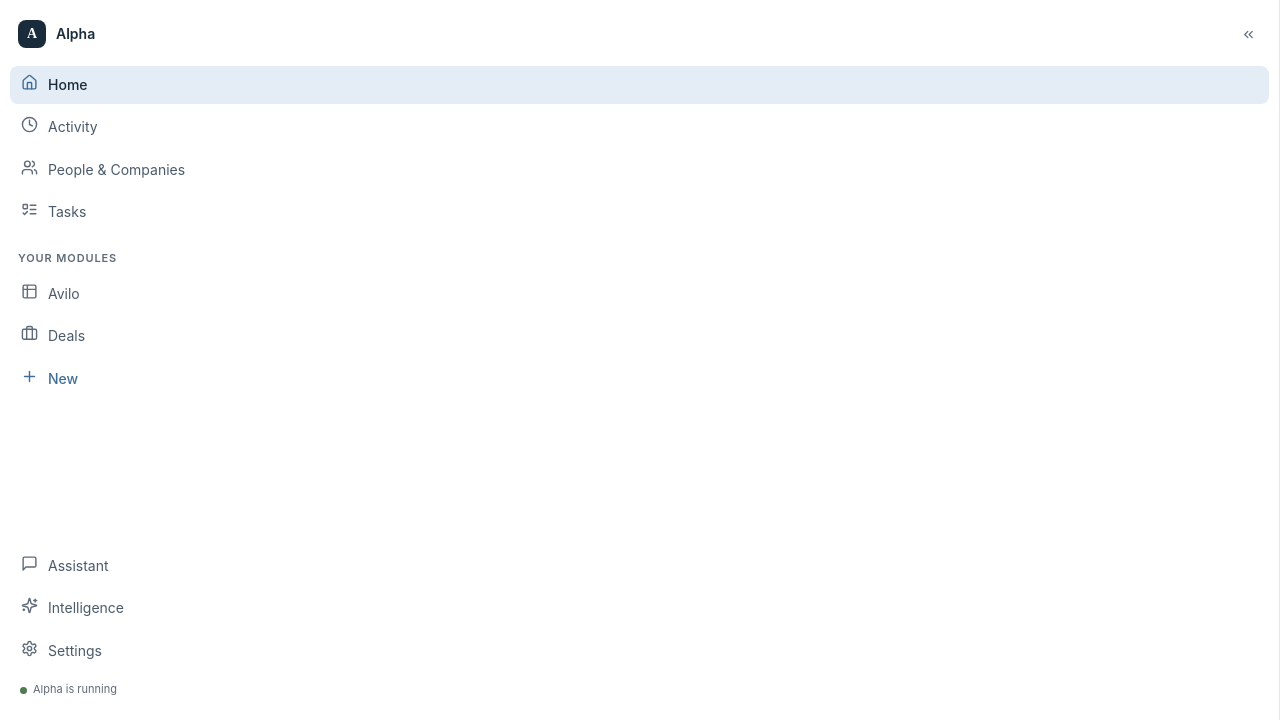
Test: a module renamed in place in the sidebar › saves on Enter, says a refusal in words, and Escape keeps the name
Right-click the button "Deals": x=67, y=336 [10, 317, 1269, 356]
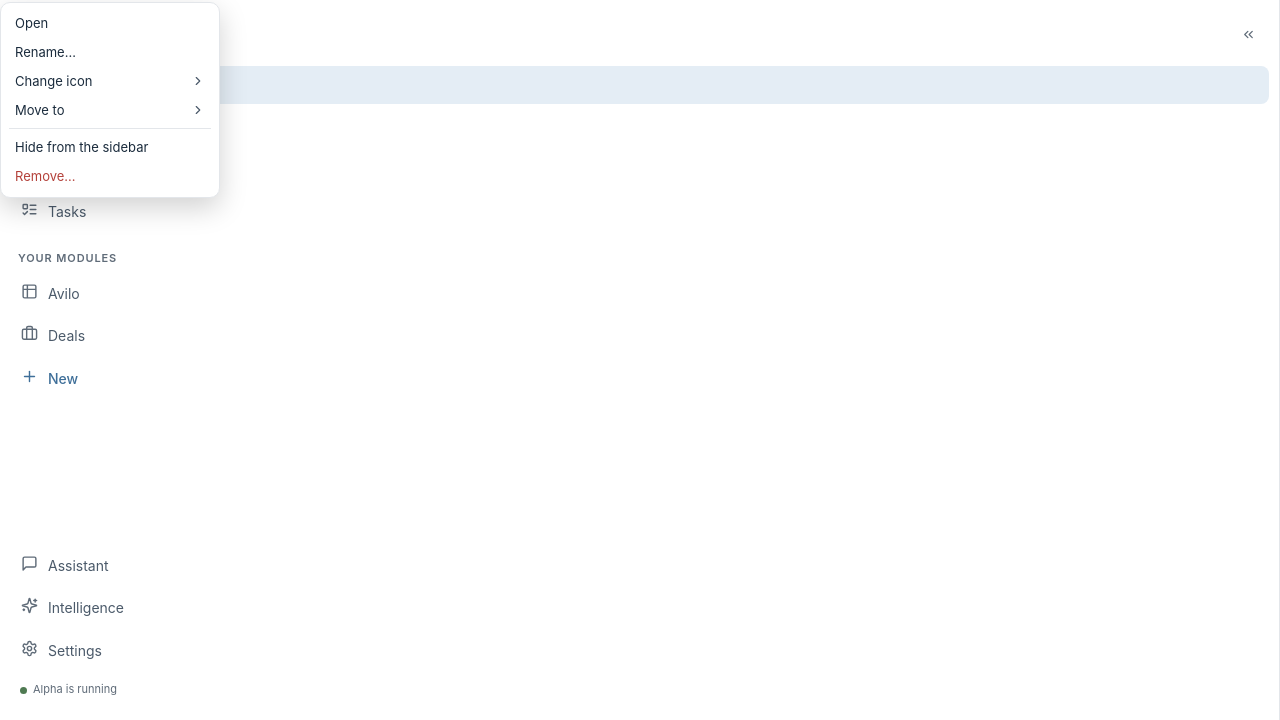
Click the menu item "Rename…": x=45, y=52 [15, 44, 76, 60]
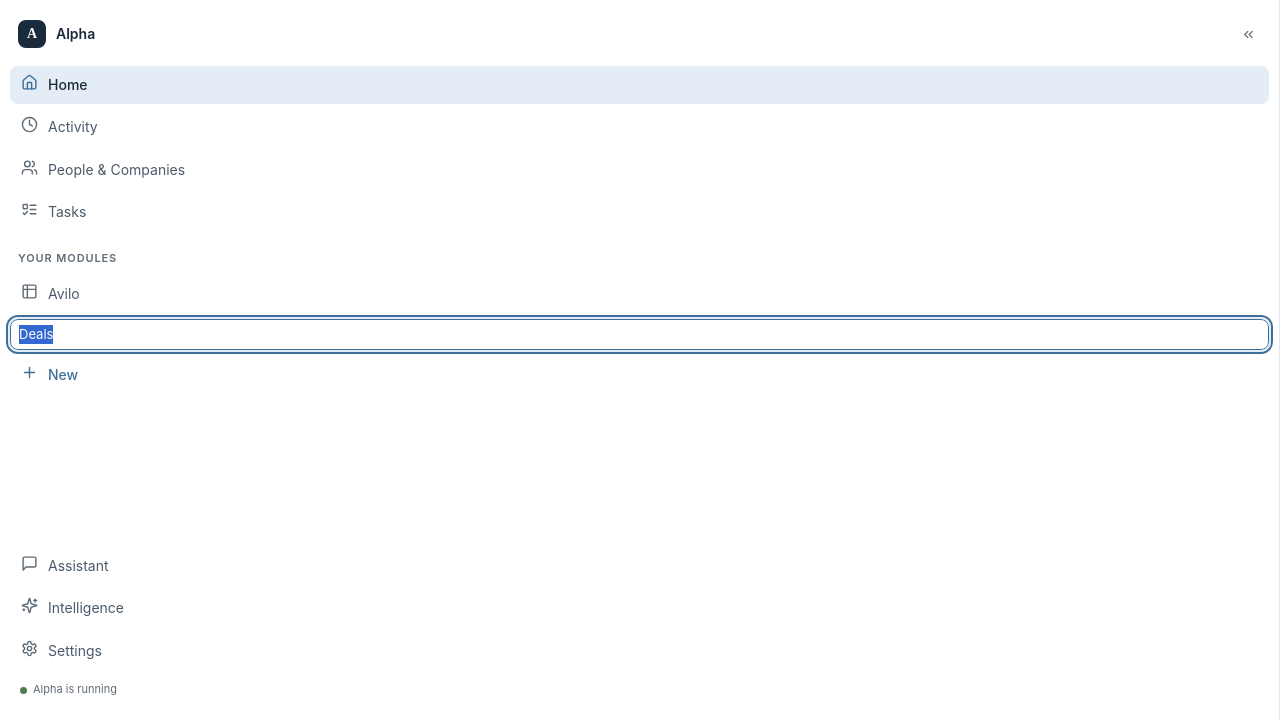
Replace the text in the field named "New name for Deals" with "Deal flow": x=640, y=335 [10, 319, 1269, 350]
Press Enter in the field named "New name for Deals", box [10, 319, 1269, 350]
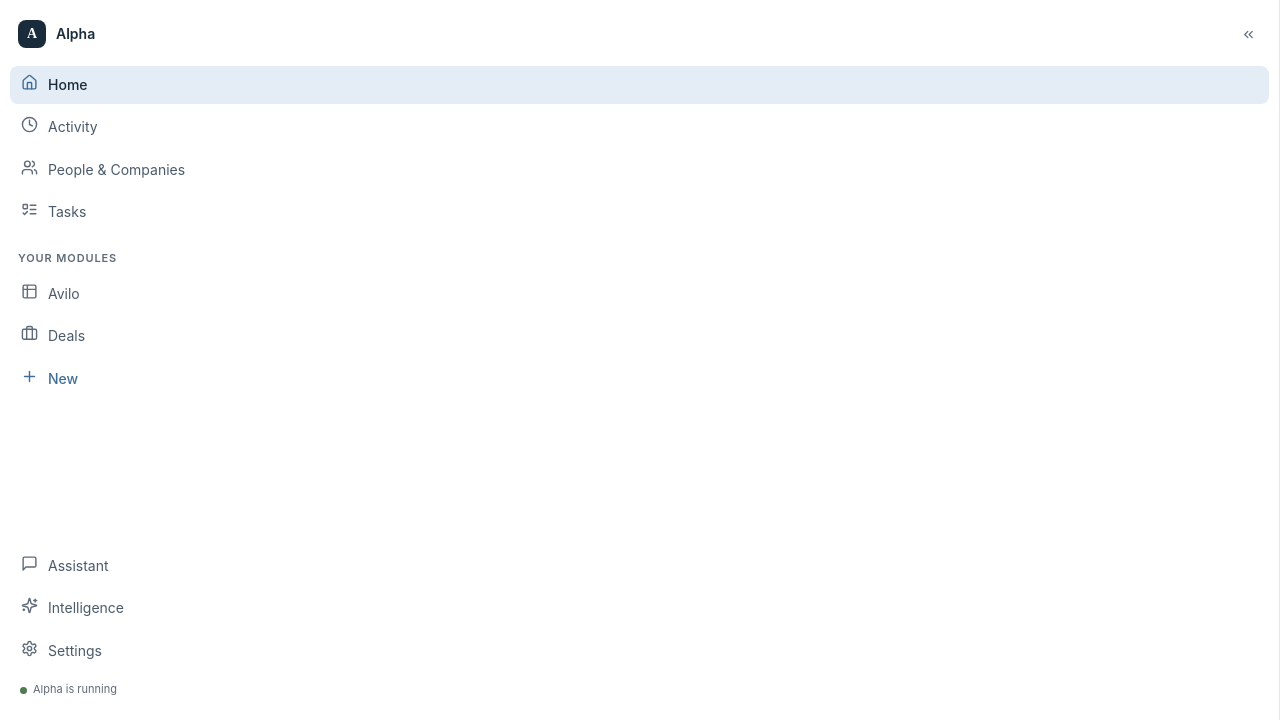
Right-click the button "Deals": x=67, y=336 [10, 317, 1269, 356]
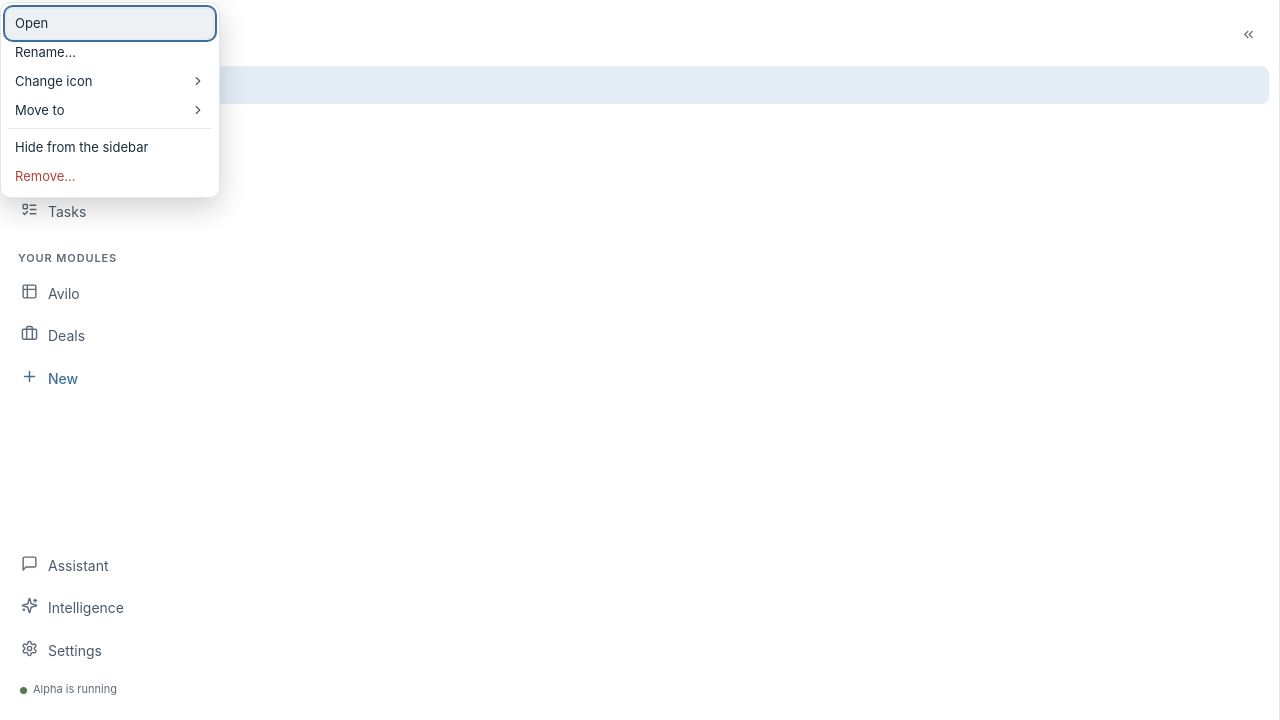
Click the menu item "Rename…": x=45, y=52 [15, 44, 76, 60]
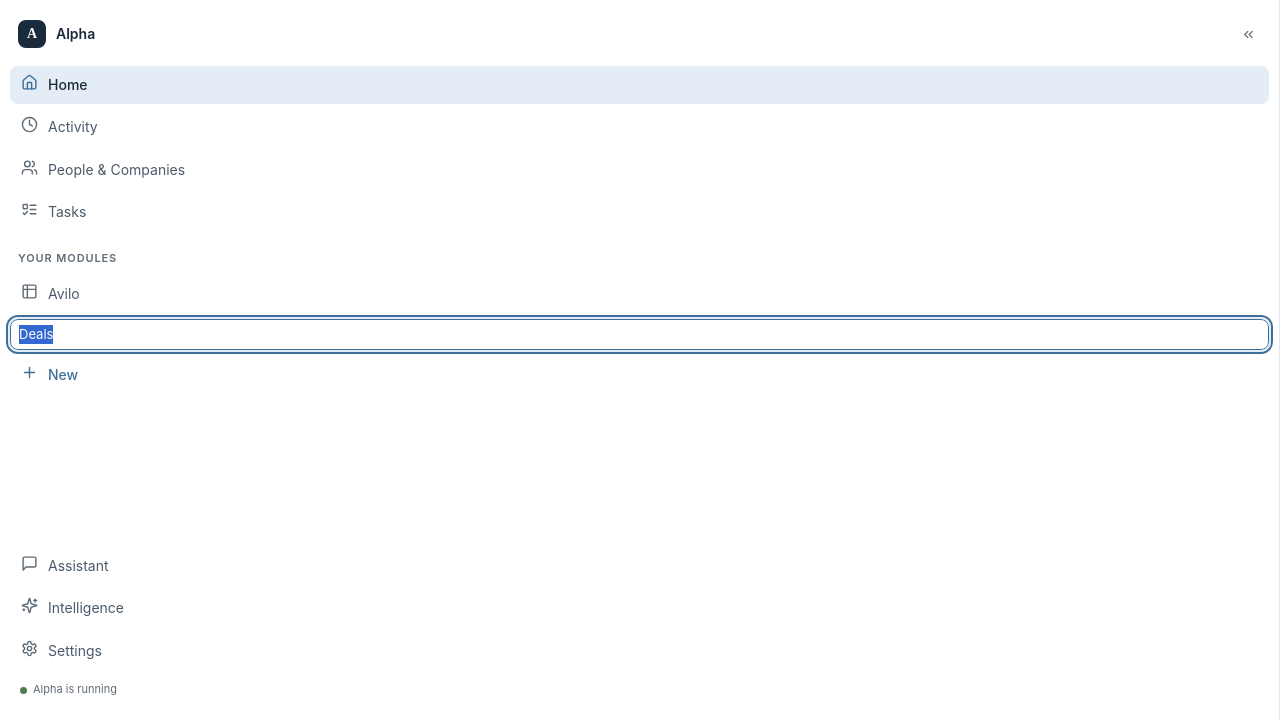
Replace the text in the field named "New name for Deals" with "Avilo": x=640, y=335 [10, 319, 1269, 350]
Press Enter in the field named "New name for Deals", box [10, 319, 1269, 350]
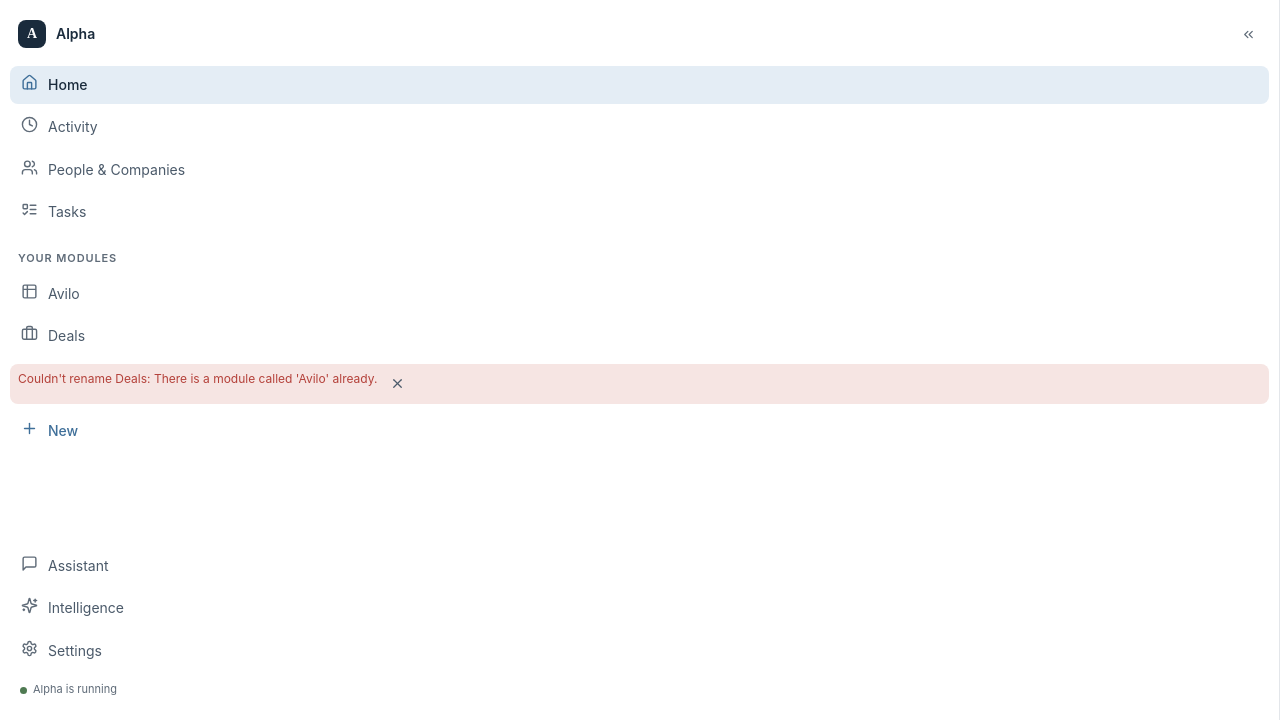
Expected: the message "Couldn't rename Deals: There is a module called 'Avilo' already." is shown, [10, 364, 1269, 404]
